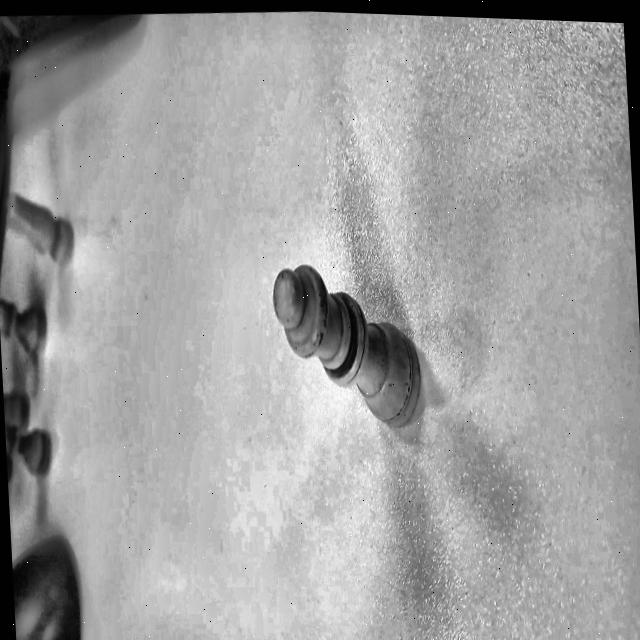white-queen: (254, 230, 466, 493)
